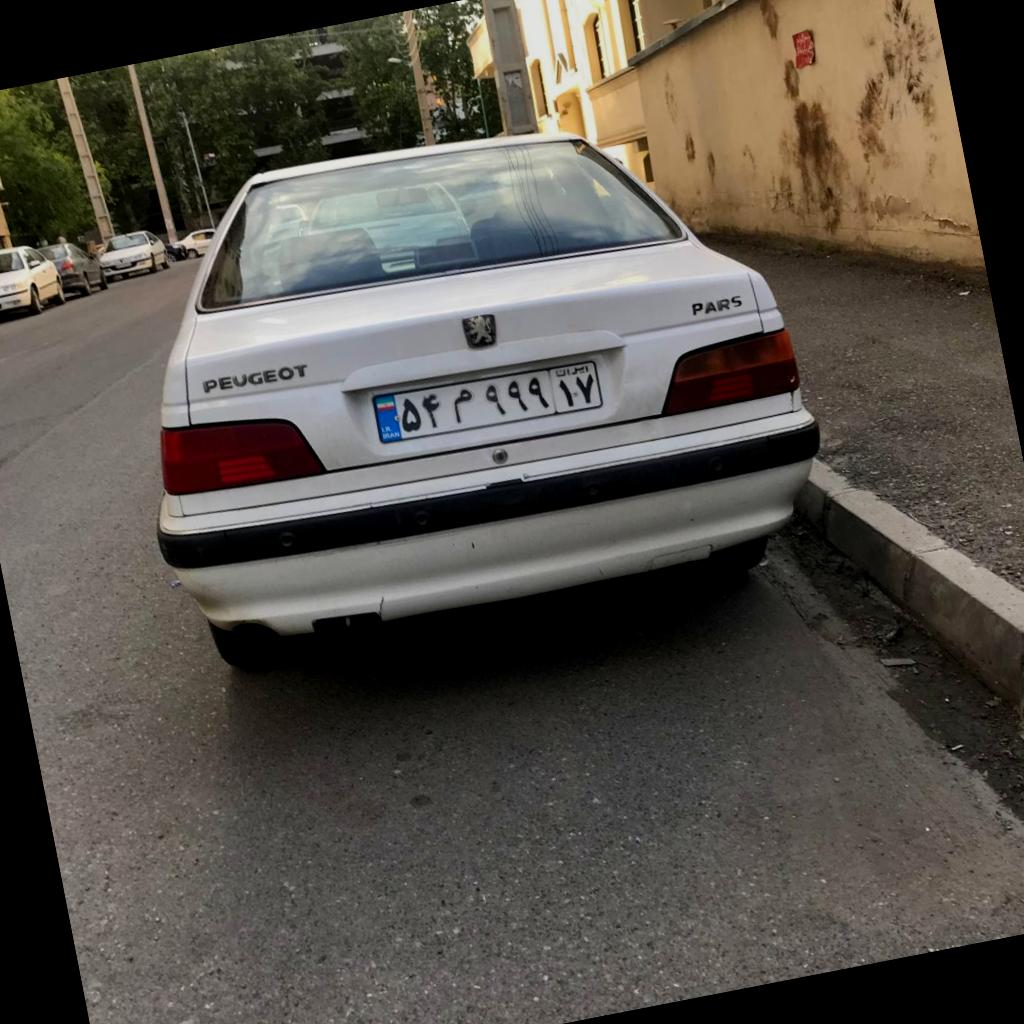Plates: (373, 361, 602, 443)
